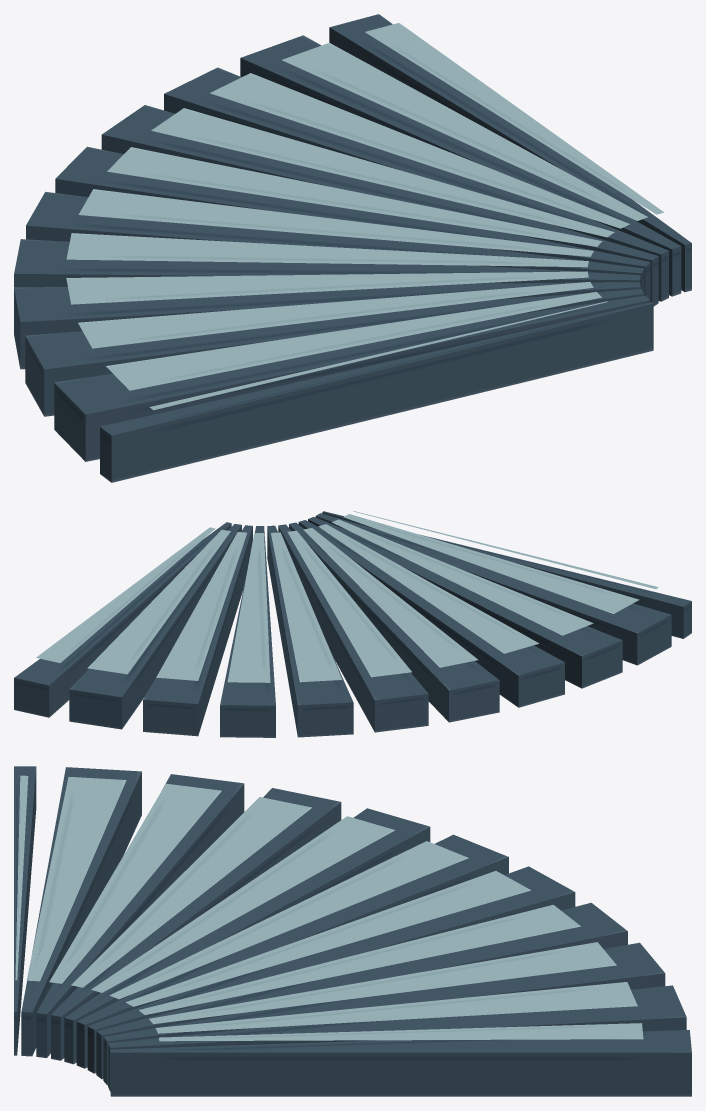
File: sc_tread_curve_right_19.obj
3 views of the same model, one above another, from view 1: azimuth 30°, elevation 25°; view 2: azimuth 150°, elevation 25°; view 3: azimuth 270°, elevation 25° (orthographic). The views are drawn at different scales.
Bounding box in the file's own units: 17.5 × 1.56 × 17.5.
Materials: 1 (1 with a texture image).
